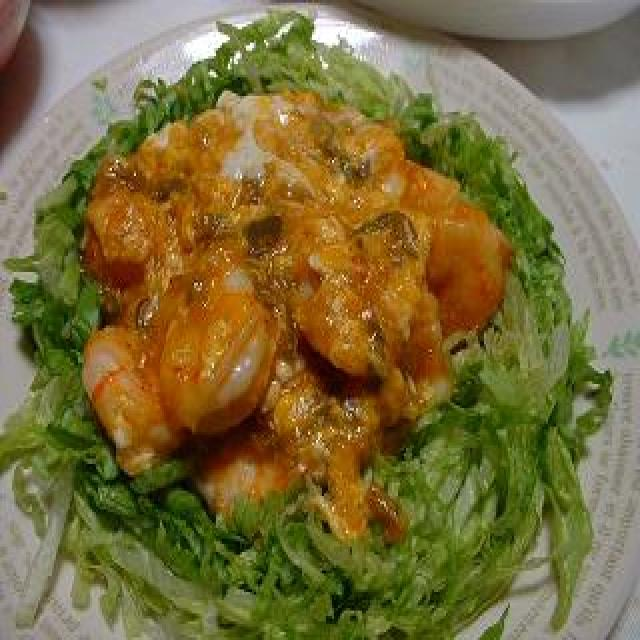熟制海鲜: (0, 64, 632, 640)
